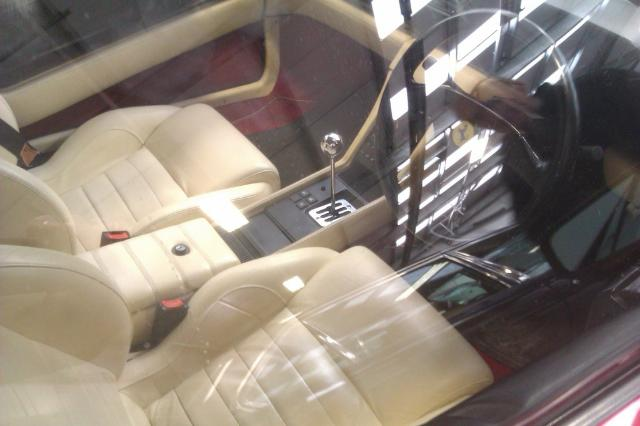Seatbelt: (0, 119, 38, 165)
